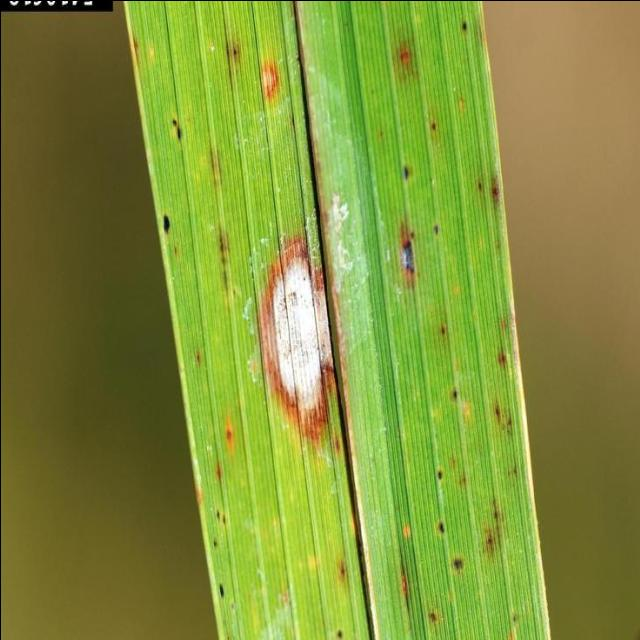Leaf blast: (122, 0, 548, 640)
